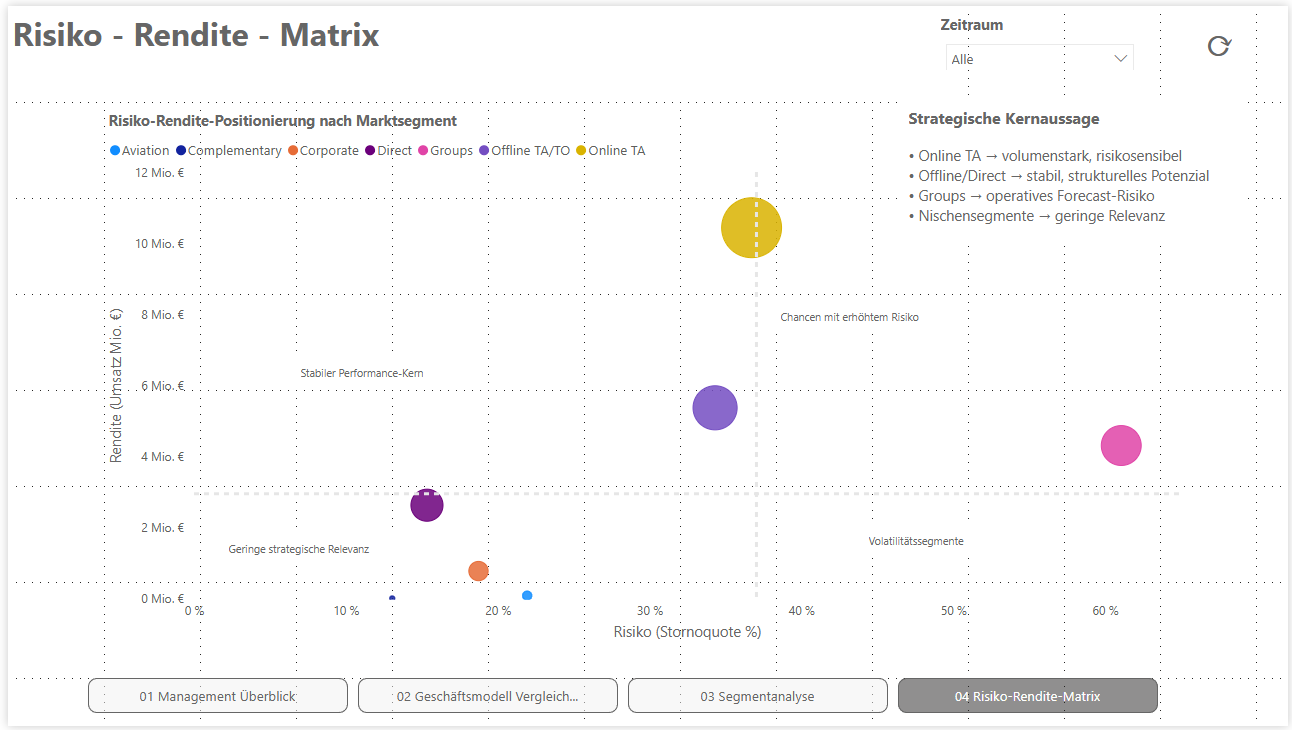

This screenshot's page, from the dashboard's own definition file:
{"tool":"powerbi","page":{"name":"04  Risiko-Rendite-Matrix","canvas":[1280,720],"ordinal":3},"visuals":[{"type":"textbox","box":[0,0,896,96],"z":0},{"type":"slicer","title":"Zeitraum","fields":{"Values":["dim_zeit.Jahr","dim_zeit.Monat"]},"box":[928,8,208,56],"z":1000},{"type":"scatterChart","title":"Risiko-Rendite-Positionierung nach Marktsegment","fields":{"Series":["dim_marktsegment.marktsegment"],"X":["measure_tabelle.Stornoquote"],"Y":["measure_tabelle.Umsatz (bereinigt)"],"Size":["measure_tabelle.Umsatz (bereinigt)"]},"box":[96,104,1096,536],"z":2000},{"type":"textbox","box":[896,96,344,144],"z":3000},{"type":"pageNavigator","box":[80,672,1072,35],"z":4000},{"type":"actionButton","title":"Reset","box":[1160,16,104,40],"z":5000},{"type":"textbox","box":[768,296,192,32],"z":6000},{"type":"textbox","box":[288,352,192,32],"z":7000},{"type":"textbox","box":[856,520,192,32],"z":8000},{"type":"textbox","box":[216,528,192,32],"z":9000}]}

Visuals, with their boxes in screenshot pixels (x1, y1, x2, y2), scaled from the page's 1280x720 canvas onto the 1292x730 screenshot:
textbox: (0,0,904,97)
"Zeitraum" slicer: (937,8,1147,65)
"Risiko-Rendite-Positionierung nach Marktsegment" scatterChart: (97,105,1203,649)
textbox: (904,97,1252,243)
pageNavigator: (81,681,1163,717)
"Reset" actionButton: (1171,16,1276,57)
textbox: (775,300,969,333)
textbox: (291,357,484,389)
textbox: (864,527,1058,560)
textbox: (218,535,412,568)
